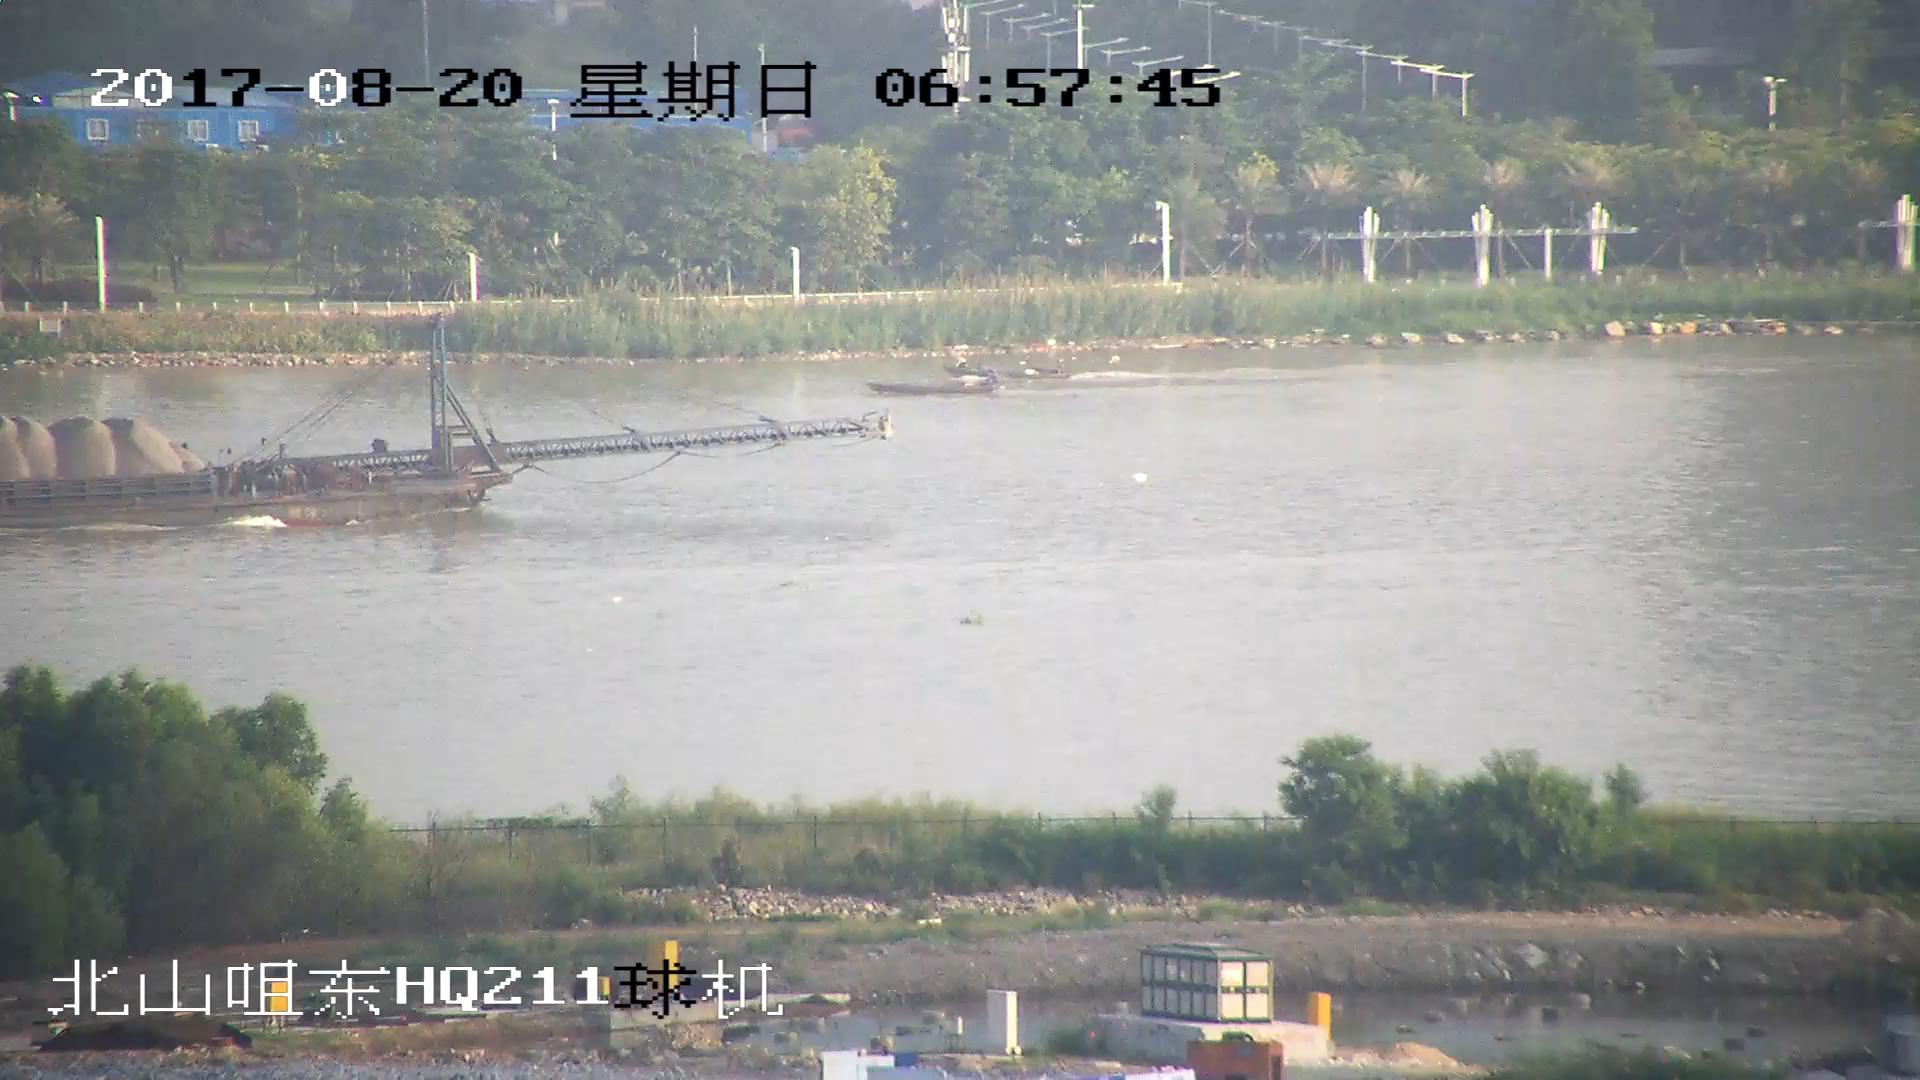Ship: (3, 320, 895, 529), (868, 367, 1000, 400), (948, 351, 1073, 385)
